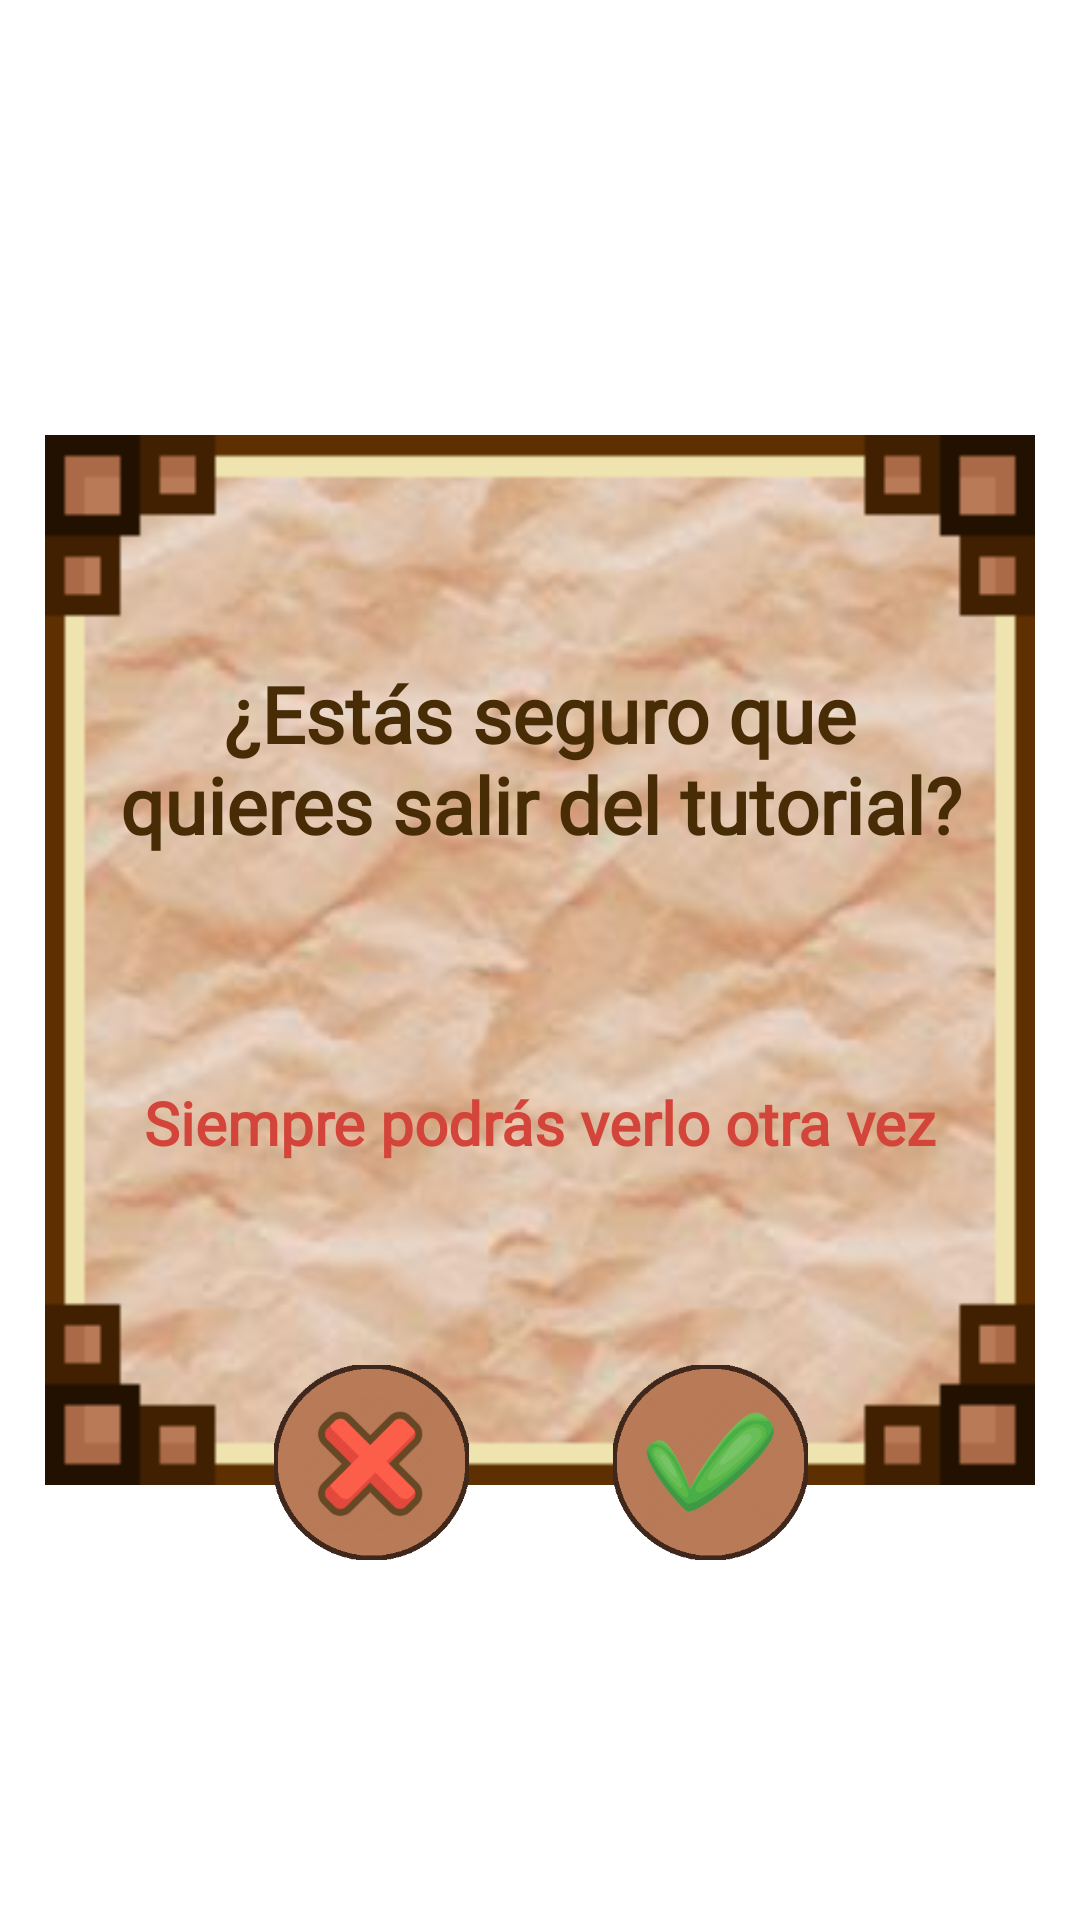

Named icons in this screenshot (1080px x 1920px) and their centers, [x,y]:
aceptar: [710,1462]
cerrar: [371,1462]
